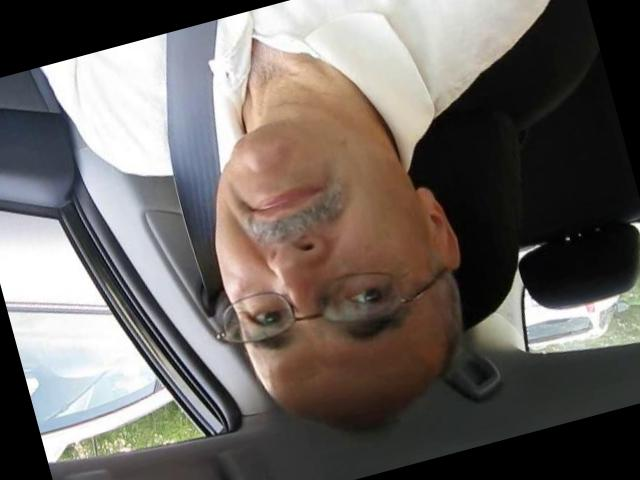eye_open: (334, 273, 400, 319), (240, 295, 294, 338)
face: (180, 90, 452, 390)
